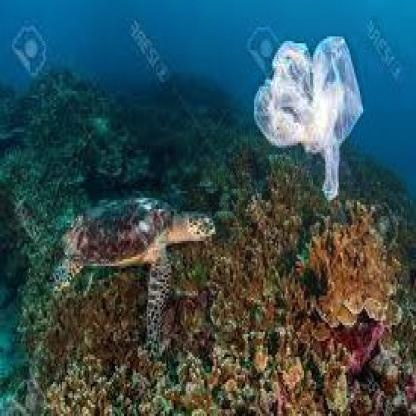pbag: (252, 34, 364, 202)
